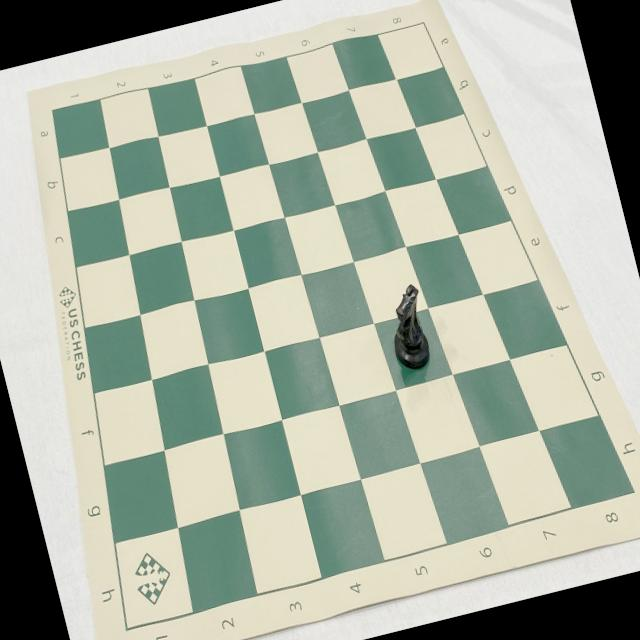black-knight: (378, 281, 437, 376)
